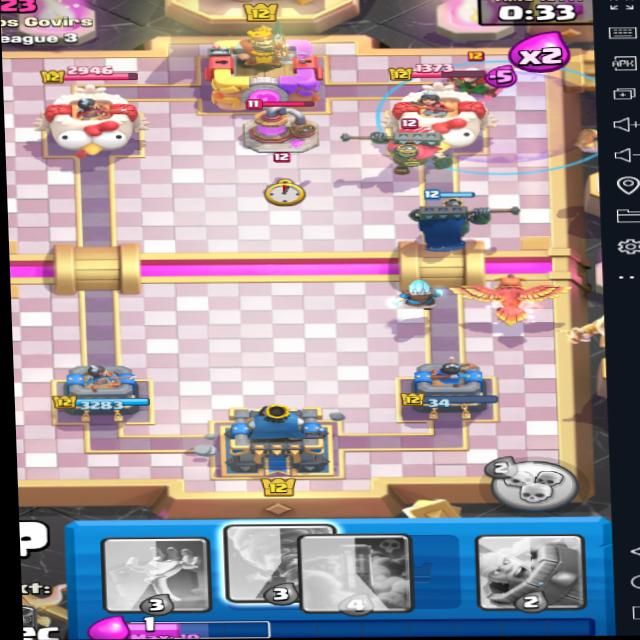Marcher: (424, 59, 502, 100)
Pump: (233, 98, 325, 152)
skellyking: (367, 122, 451, 177)
